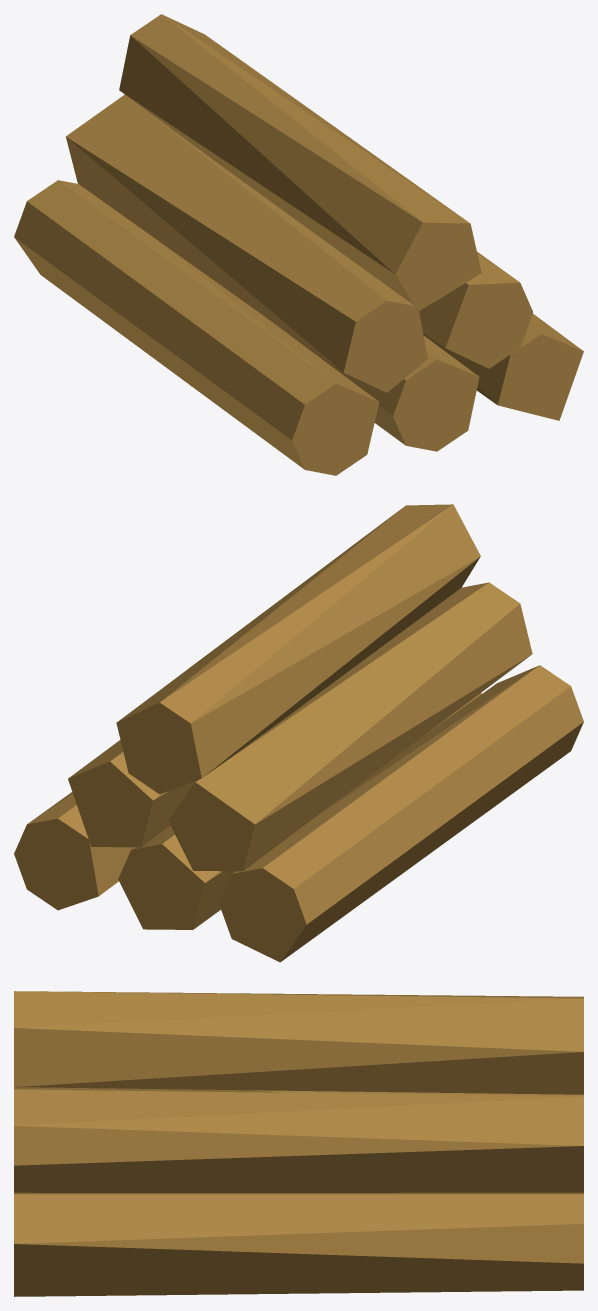
Rendered from WoodPile.fbx.
The picture shows the model from 3 angles, top to bottom: view 1: azimuth 30°, elevation 25°; view 2: azimuth 150°, elevation 25°; view 3: azimuth 270°, elevation 25°; orthographic projection. The views are drawn at different scales.
Visible parts, largest first — view 1: WoodPile; view 2: WoodPile; view 3: WoodPile.
Part boxes in pixels (x1=…): WoodPile: x1=14, y1=14, x2=583, y2=475; WoodPile: x1=14, y1=504, x2=583, y2=962; WoodPile: x1=14, y1=991, x2=583, y2=1296.
Size of the model in its own units: 0.6833 by 0.5193 by 1.12.
